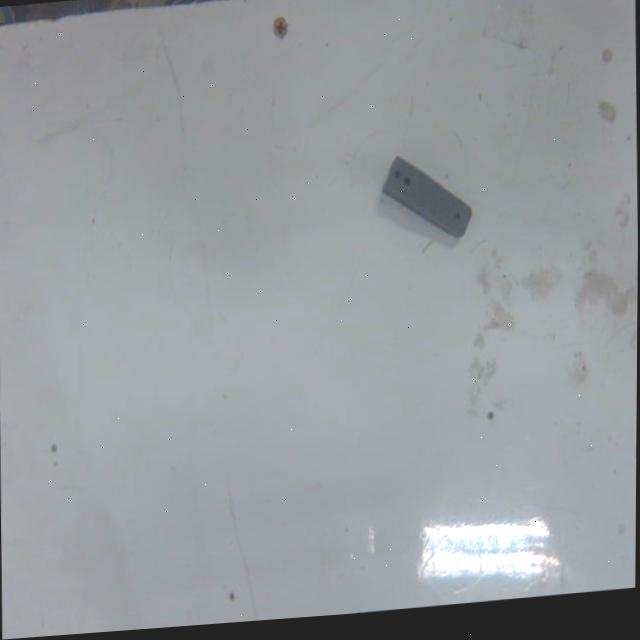grey: (379, 142, 474, 247)
head: (451, 207, 461, 223)
